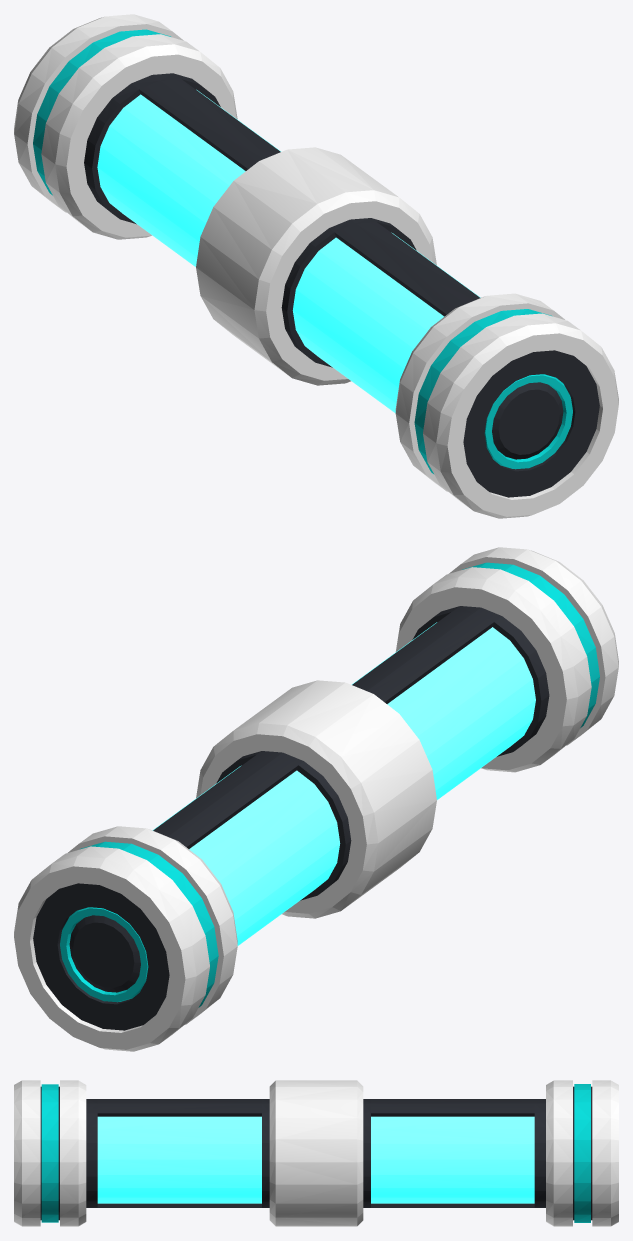
Rendered from SM_Cable_Large_Straight.fbx.
3 renders of one model, top to bottom at view 1: azimuth 30°, elevation 25°; view 2: azimuth 150°, elevation 25°; view 3: azimuth 270°, elevation 25°, orthographic. The views are drawn at different scales.
Parts seen in each view (by area): view 1: SM_Cable_Large_Straight; view 2: SM_Cable_Large_Straight; view 3: SM_Cable_Large_Straight.
Boxes of the visible parts, x1,y1,x2,y2 form: SM_Cable_Large_Straight: (14, 14, 618, 518); SM_Cable_Large_Straight: (14, 547, 618, 1051); SM_Cable_Large_Straight: (14, 1080, 618, 1226).
Size of the model in its own units: 24.32 by 24.32 by 100.
